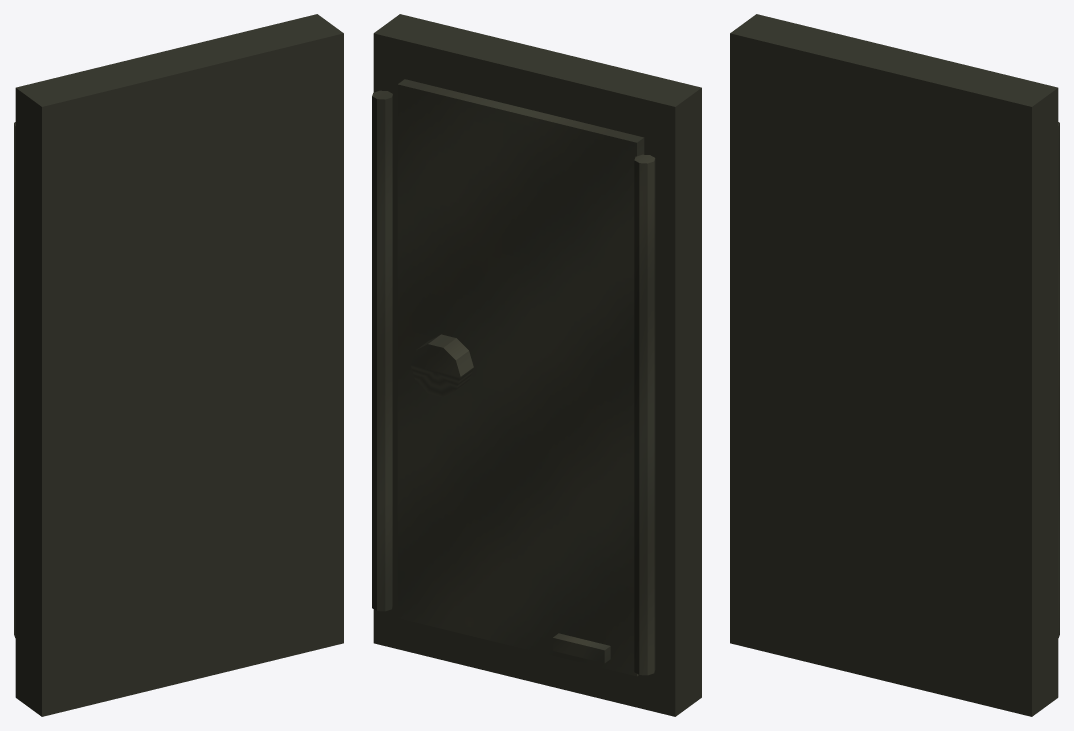
The model's file is prop_safe_classified_a.glb.
The picture shows the model from 3 angles, left to right: view 1: azimuth 30°, elevation 25°; view 2: azimuth 150°, elevation 25°; view 3: azimuth 330°, elevation 25°; orthographic projection.
Visible parts, largest first — view 1: prop_safe_classified_a; view 2: prop_safe_classified_a; view 3: prop_safe_classified_a.
Boxes of the visible parts, left/top/right/bottom form: prop_safe_classified_a: left=14, top=14, right=343, bottom=716; prop_safe_classified_a: left=372, top=14, right=701, bottom=716; prop_safe_classified_a: left=730, top=14, right=1059, bottom=716.
Size of the model in its own units: 1.45 by 2.8 by 0.405.
Materials: 1 (1 with a texture image).
